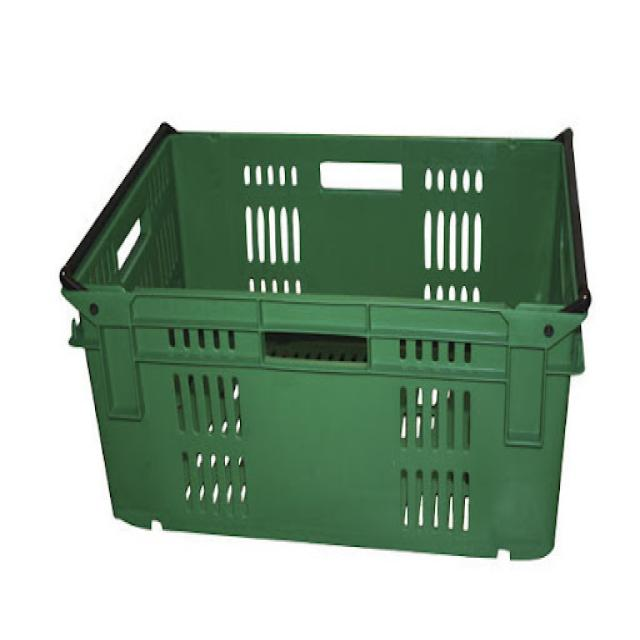basket: (55, 122, 594, 561)
